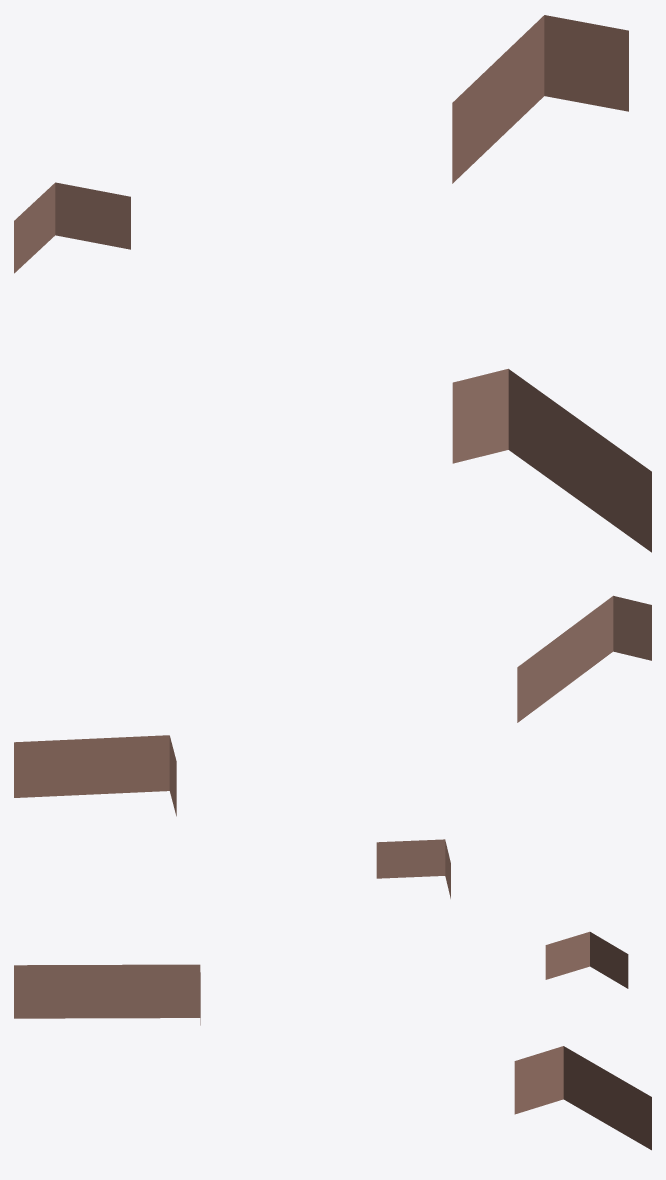
Rendered from c_1629_17828_buildings_residential.glb.
3 renders of one model, top to bottom at view 1: azimuth 30°, elevation 25°; view 2: azimuth 150°, elevation 25°; view 3: azimuth 270°, elevation 25°, orthographic. The views are drawn at different scales.
Parts seen in each view (by area): view 1: geometry_0; view 2: geometry_0; view 3: geometry_0.
Boxes of the visible parts, x1,y1,x2,y2 form: geometry_0: (14, 15, 651, 552); geometry_0: (14, 595, 651, 898); geometry_0: (14, 931, 651, 1150).
Bounding box in the file's own units: 76.56 × 10.84 × 103.
